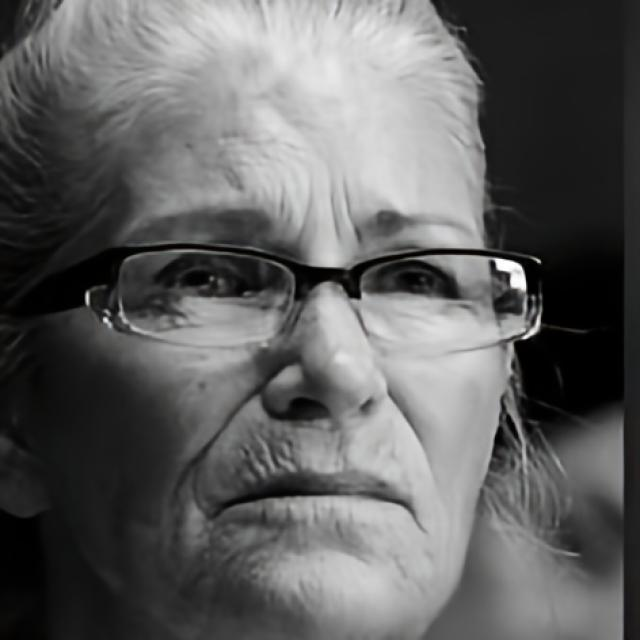sad: (55, 95, 504, 640)
